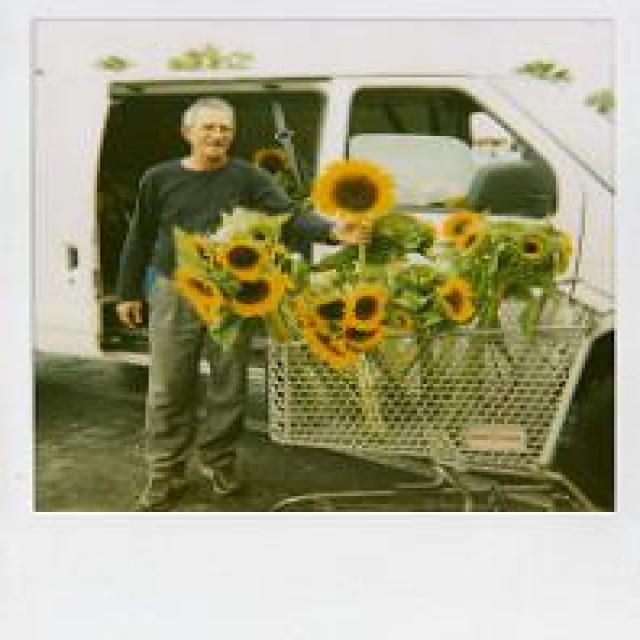sunflower: (315, 158, 393, 222), (301, 320, 355, 365), (231, 269, 283, 315), (296, 288, 350, 323), (176, 273, 225, 311), (217, 242, 268, 274), (433, 280, 472, 320), (344, 288, 383, 328), (182, 233, 218, 270), (441, 206, 474, 238), (257, 148, 289, 170), (350, 328, 381, 350), (521, 236, 547, 256)
